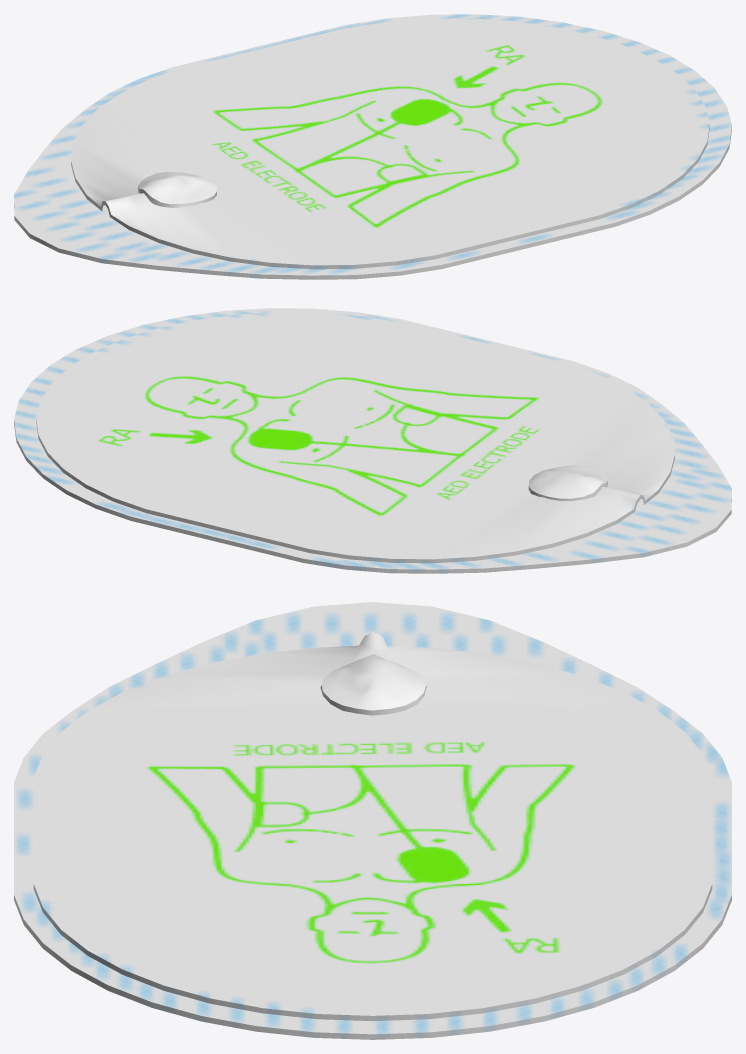
Rendered from Ecg_Pad_Right.FBX.
3 views of the same model, one above another, from view 1: azimuth 30°, elevation 25°; view 2: azimuth 150°, elevation 25°; view 3: azimuth 270°, elevation 25° (orthographic). The views are drawn at different scales.
Parts seen in each view (by area): view 1: Ecg_Pad_Right; view 2: Ecg_Pad_Right; view 3: Ecg_Pad_Right.
Part boxes in pixels (<box>): Ecg_Pad_Right: <box>14,14,731,279</box>; Ecg_Pad_Right: <box>14,308,731,573</box>; Ecg_Pad_Right: <box>14,602,731,1039</box>.
Bounding box in the file's own units: 12.06 × 0.4322 × 8.46.
Materials: 1 (1 with a texture image).
